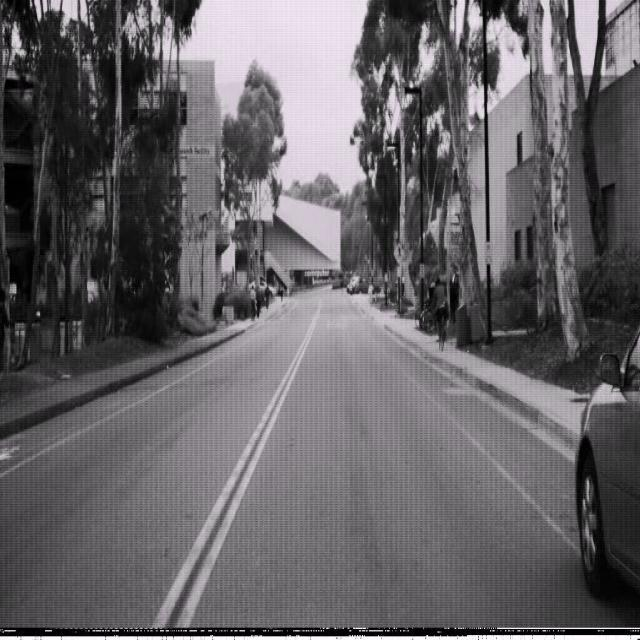pedestrianCrossing: (392, 240, 406, 266)
